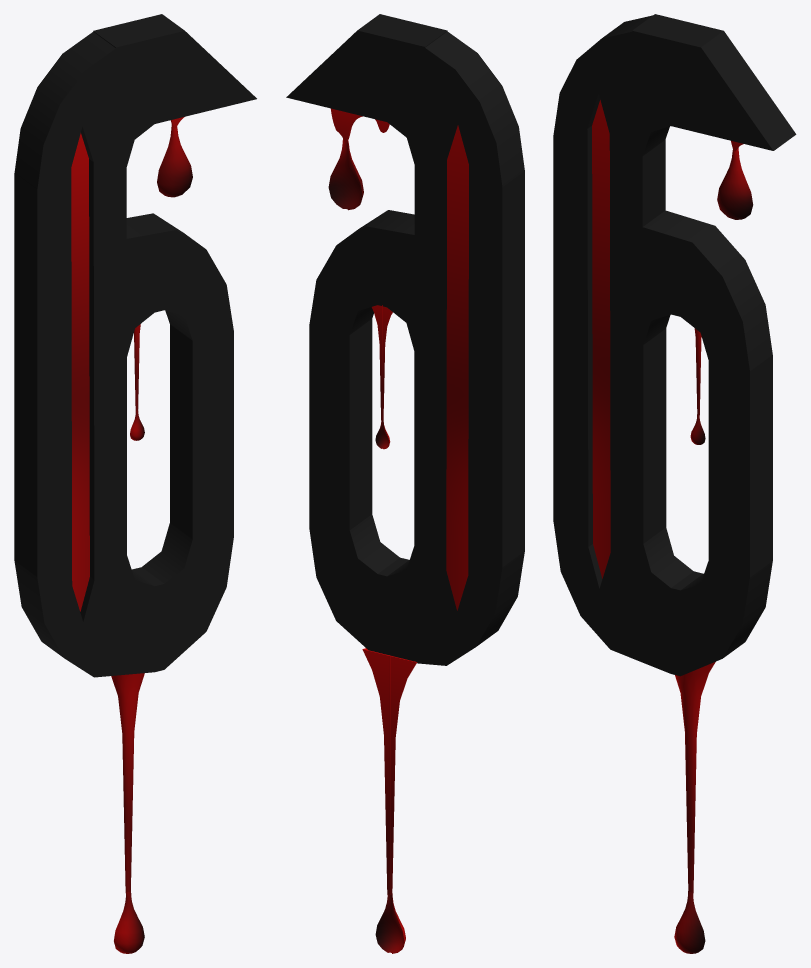
3 renders of one model, left to right at view 1: azimuth 30°, elevation 25°; view 2: azimuth 150°, elevation 25°; view 3: azimuth 330°, elevation 25°, orthographic.
Visible parts, largest first — view 1: 6, 6_Element, Blood_393, Blood_451, Blood_353; view 2: 6, 6_Element, Blood_393, Blood_451, Blood_353; view 3: 6, 6_Element, Blood_393, Blood_451, Blood_353.
Boxes of the visible parts, x1=… form: 6: x1=14, y1=14, x2=256, y2=677; 6_Element: x1=71, y1=133, x2=89, y2=611; Blood_393: x1=111, y1=673, x2=144, y2=953; Blood_451: x1=157, y1=117, x2=192, y2=197; Blood_353: x1=130, y1=324, x2=144, y2=440; 6: x1=286, y1=14, x2=524, y2=665; 6_Element: x1=446, y1=125, x2=468, y2=610; Blood_393: x1=362, y1=648, x2=417, y2=953; Blood_451: x1=328, y1=108, x2=389, y2=210; Blood_353: x1=371, y1=305, x2=392, y2=449; 6: x1=553, y1=14, x2=796, y2=676; 6_Element: x1=592, y1=100, x2=610, y2=578; Blood_393: x1=674, y1=661, x2=715, y2=953; Blood_451: x1=717, y1=141, x2=753, y2=219; Blood_353: x1=690, y1=328, x2=705, y2=444.
Bounding box in the file's own units: 27.83 × 112 × 5.16.
Materials: 2 (1 with a texture image).
